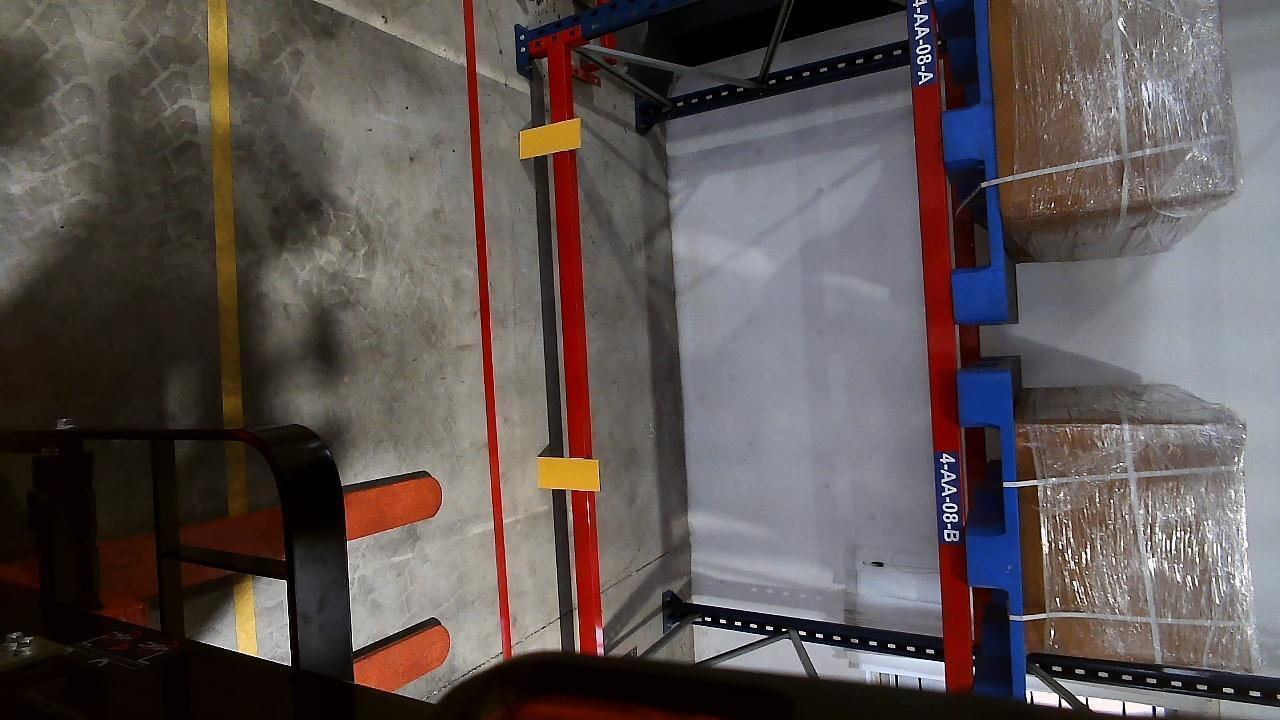red_line: (453, 0, 523, 654)
yellow_line: (205, 0, 246, 426)
